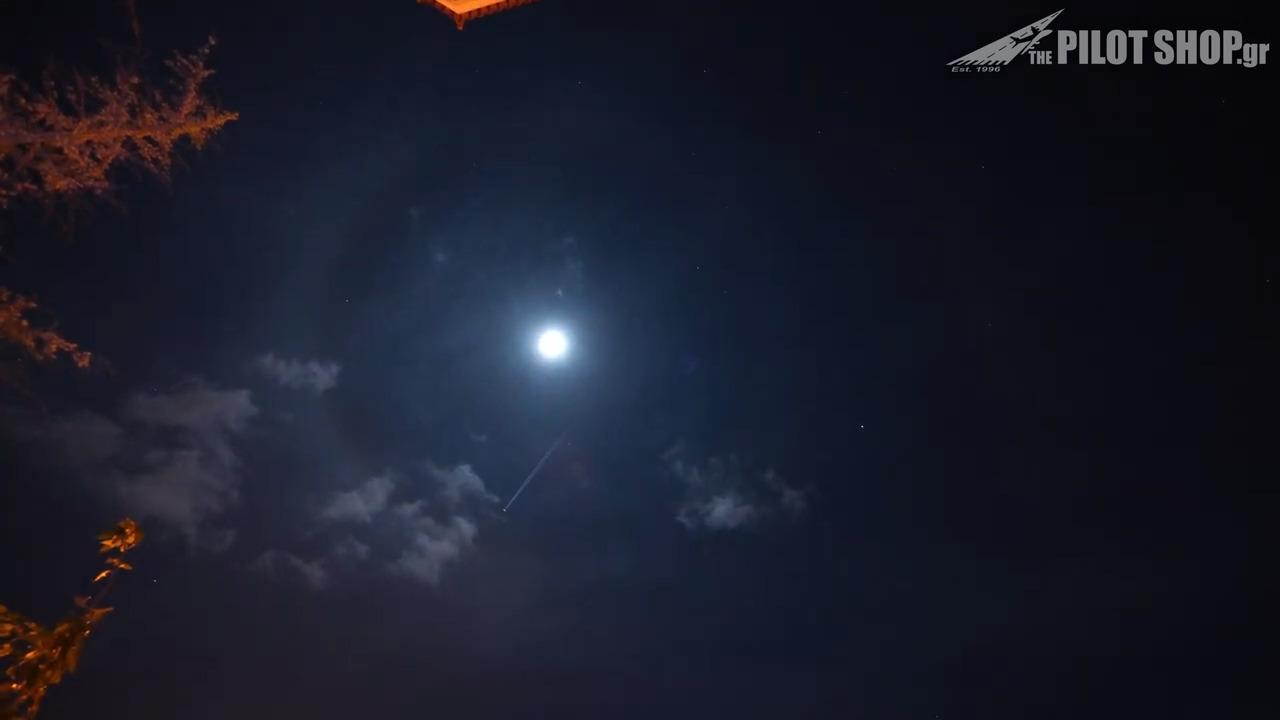Plane: (497, 463, 550, 520)
